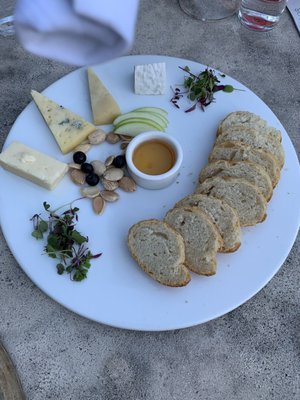sushi: (125, 131, 184, 190)
